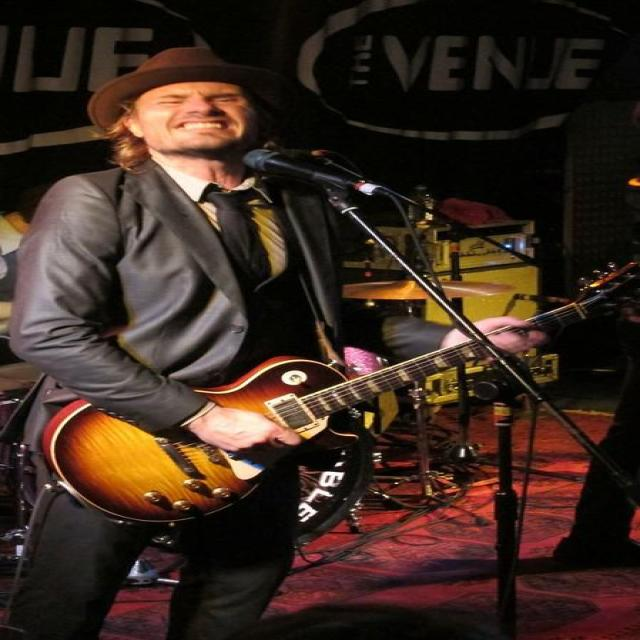guitar: (196, 342, 484, 447)
